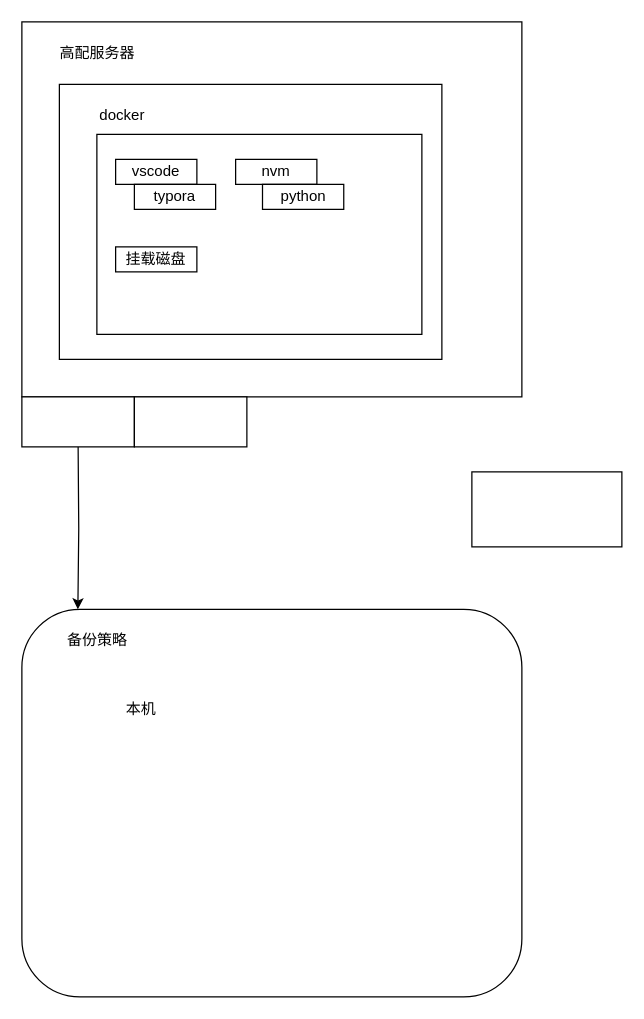
This 644x1019 diagram has some shape labels left out. The box of each missing label's shape, as (x1, y1, x2, y2) in pixels:
docker安装包: (21, 396, 134, 447)
镜像、容器安装包: (133, 396, 247, 447)
